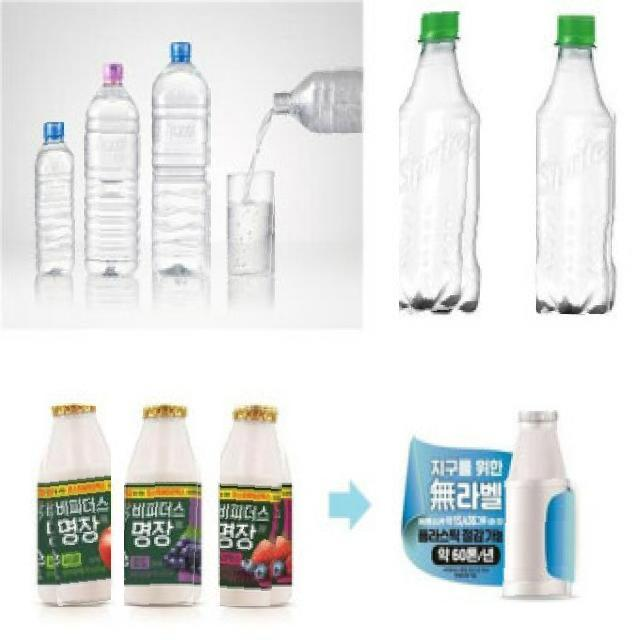plastic bottle: (399, 11, 478, 315), (536, 16, 616, 314), (124, 406, 202, 606), (38, 406, 112, 606), (220, 406, 290, 606), (152, 40, 211, 277), (502, 410, 574, 600), (84, 64, 140, 279), (30, 122, 75, 274), (272, 66, 364, 133), (228, 170, 276, 280)
